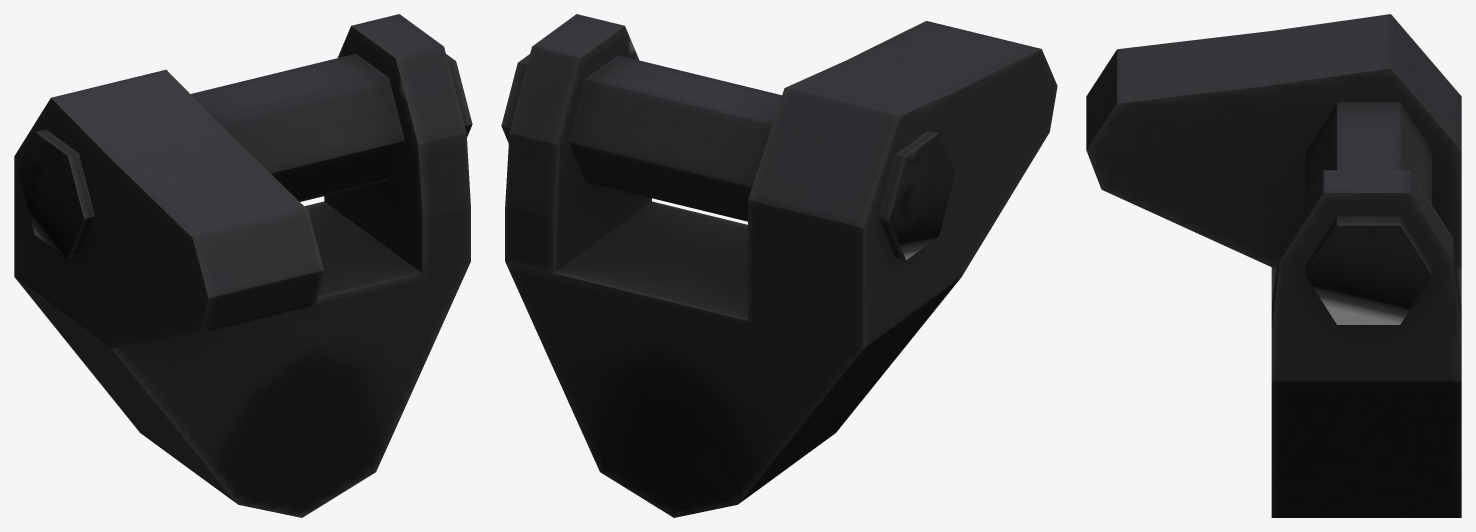
The model's file is ltorso.DAE.
The picture shows the model from 3 angles, left to right: view 1: azimuth 30°, elevation 25°; view 2: azimuth 150°, elevation 25°; view 3: azimuth 270°, elevation 25°; orthographic projection. The views are drawn at different scales.
Visible parts, largest first — view 1: ltorso; view 2: ltorso; view 3: ltorso.
Boxes of the visible parts, x1=… form: ltorso: x1=14, y1=14, x2=472, y2=517; ltorso: x1=501, y1=14, x2=1057, y2=517; ltorso: x1=1086, y1=14, x2=1461, y2=517.
Size of the model in its own units: 0.0844 by 0.0731 by 0.0874.
1 material, 1 textured.
